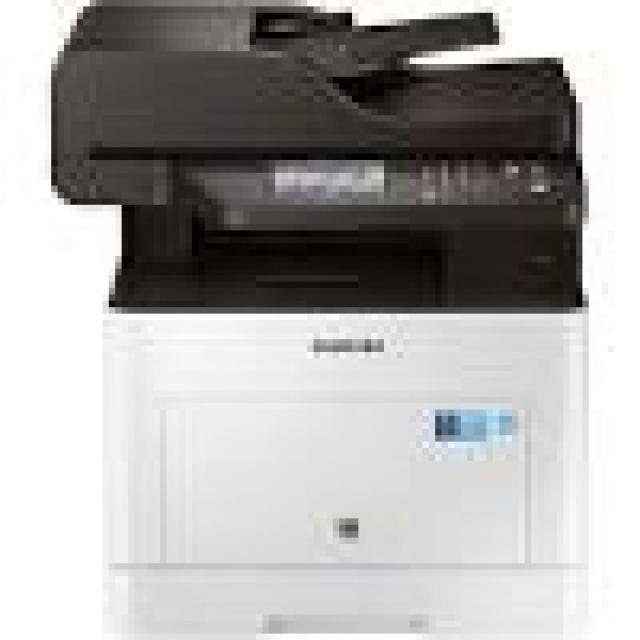printer: (44, 0, 606, 638)
